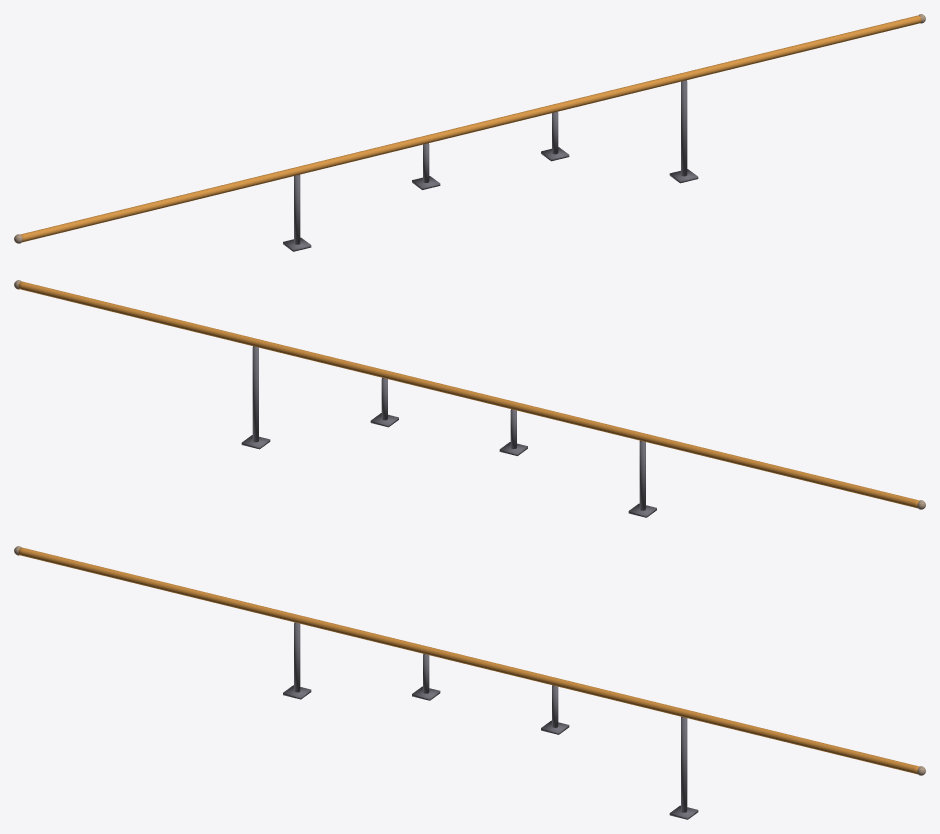
The model's file is Rail_OverFunbox.glb.
The picture shows the model from 3 angles, top to bottom: view 1: azimuth 30°, elevation 25°; view 2: azimuth 150°, elevation 25°; view 3: azimuth 330°, elevation 25°; orthographic projection.
Parts seen in each view (by area): view 1: Rail_OverFunbox_Rail; view 2: Rail_OverFunbox_Rail; view 3: Rail_OverFunbox_Rail.
Boxes of the visible parts, left/top/right/bottom form: Rail_OverFunbox_Rail: left=20, top=15, right=921, bottom=251; Rail_OverFunbox_Rail: left=18, top=281, right=919, bottom=517; Rail_OverFunbox_Rail: left=18, top=547, right=919, bottom=819.
Bounding box in the file's own units: 14.13 × 1.55 × 0.2803.
2 materials, 1 textured.
